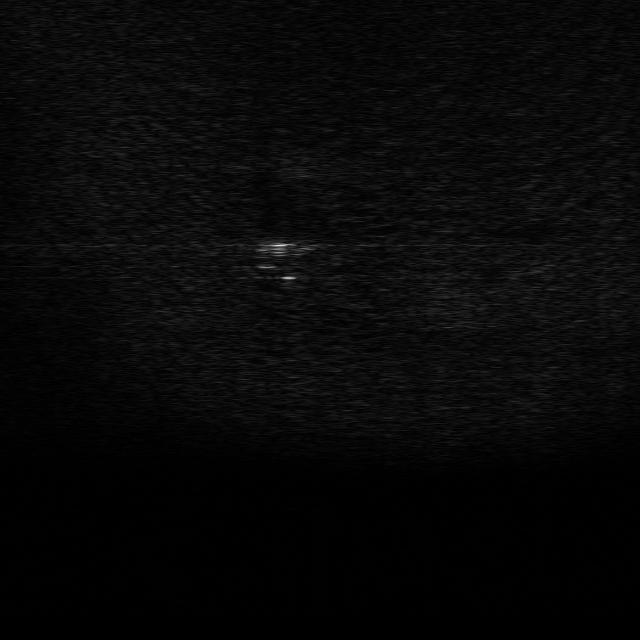plane: (251, 232, 331, 280)
